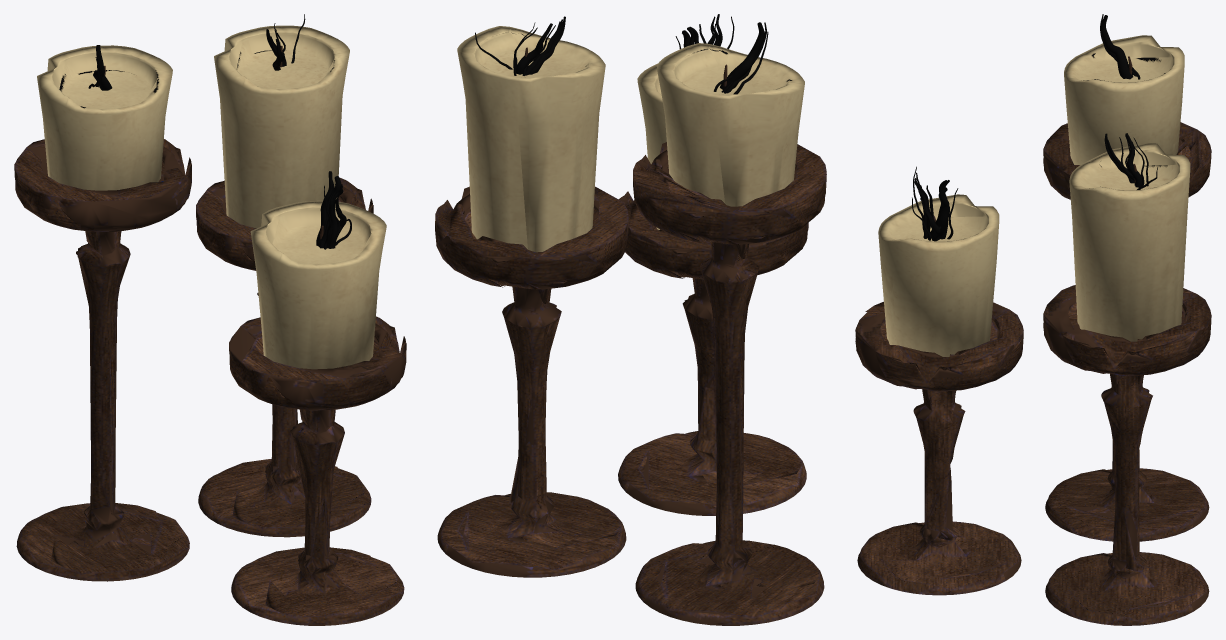
The model's file is candle 4.obj.
The picture shows the model from 3 angles, left to right: view 1: azimuth 30°, elevation 25°; view 2: azimuth 150°, elevation 25°; view 3: azimuth 270°, elevation 25°; orthographic projection. The views are drawn at different scales.
Visible parts, largest first — view 1: directionalLight2; view 2: directionalLight2; view 3: directionalLight2.
Boxes of the visible parts, left/top/right/bottom form: directionalLight2: left=14, top=14, right=406, bottom=625; directionalLight2: left=435, top=14, right=826, bottom=625; directionalLight2: left=855, top=14, right=1211, bottom=625.
Bounding box in the file's own units: 4.11 × 5.98 × 3.99.
Materials: 6 (3 with a texture image).
